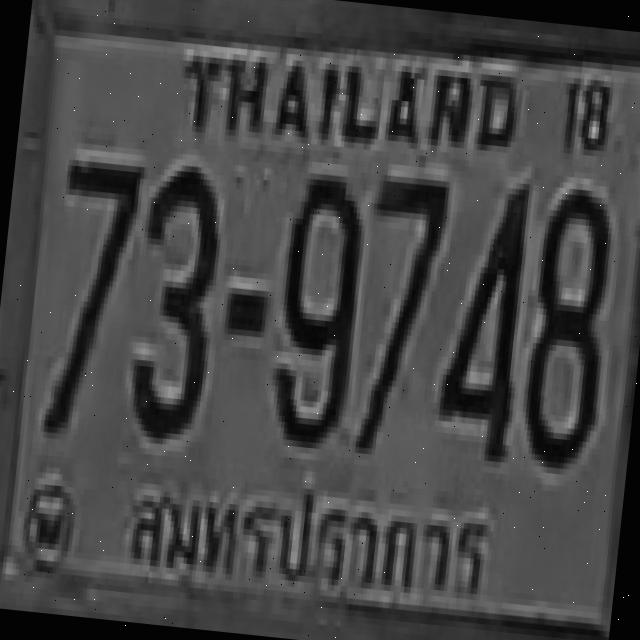3: (123, 156, 224, 436)
4: (432, 170, 534, 457)
7: (40, 150, 142, 436), (349, 165, 447, 450)
8: (518, 178, 616, 462)
9: (266, 162, 368, 442)
SamutPrakan: (120, 444, 507, 624)
